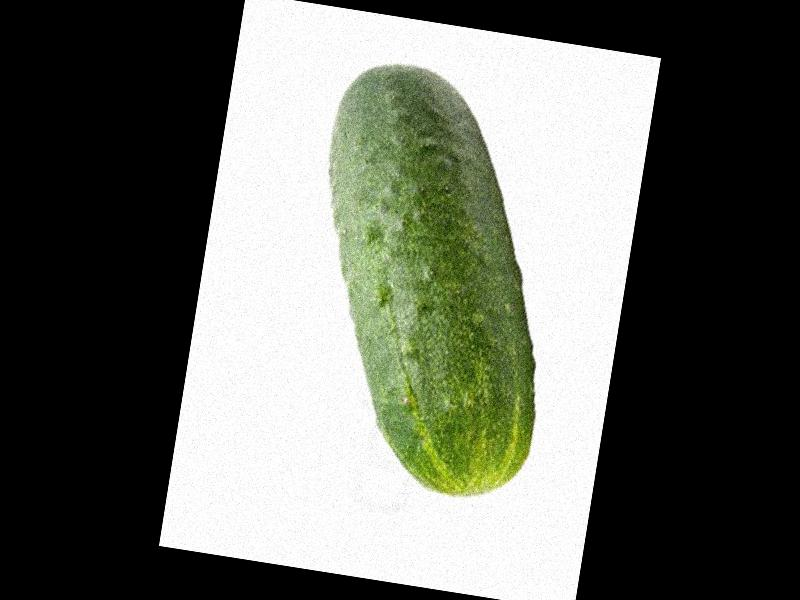Cucumber: (278, 55, 582, 507)
